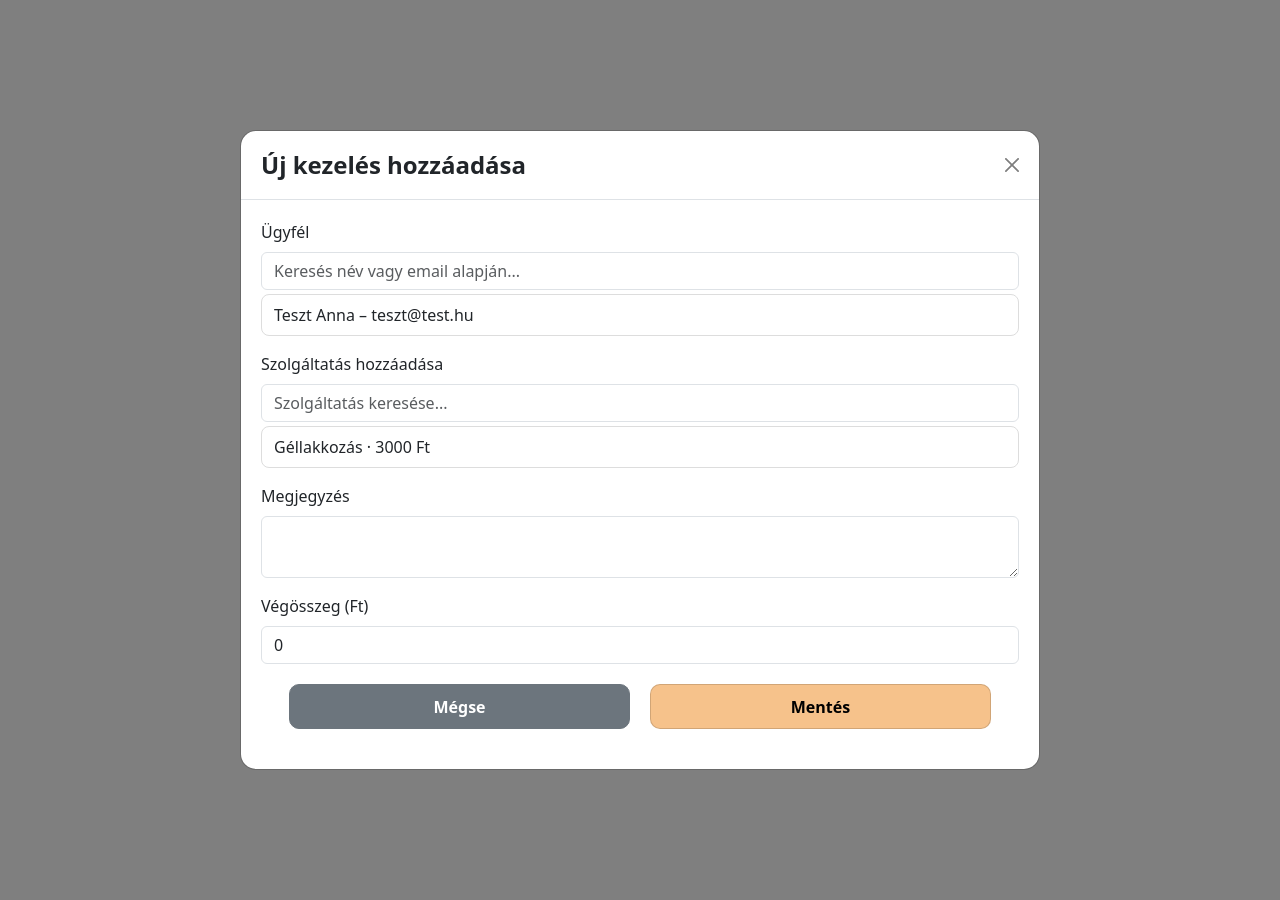
Test: TreatmentModal › service hozzáadás működik
The image size is (1280, 900).
Click the text "Géllakkozás · 3000 Ft".
click(352, 447)  # box [274,436,430,458]
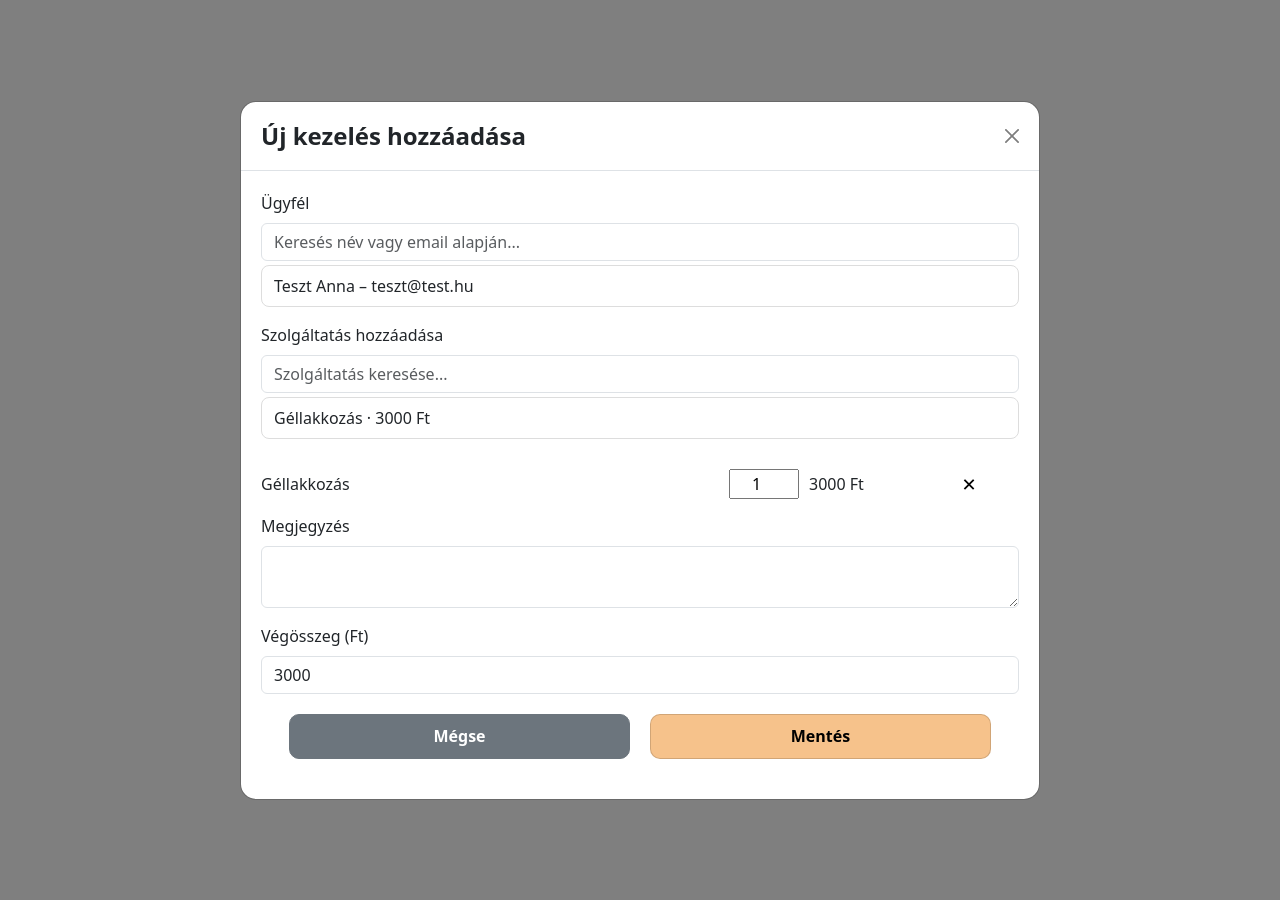
Check: the text "3000 Ft" is shown, box [809,473,864,495]
